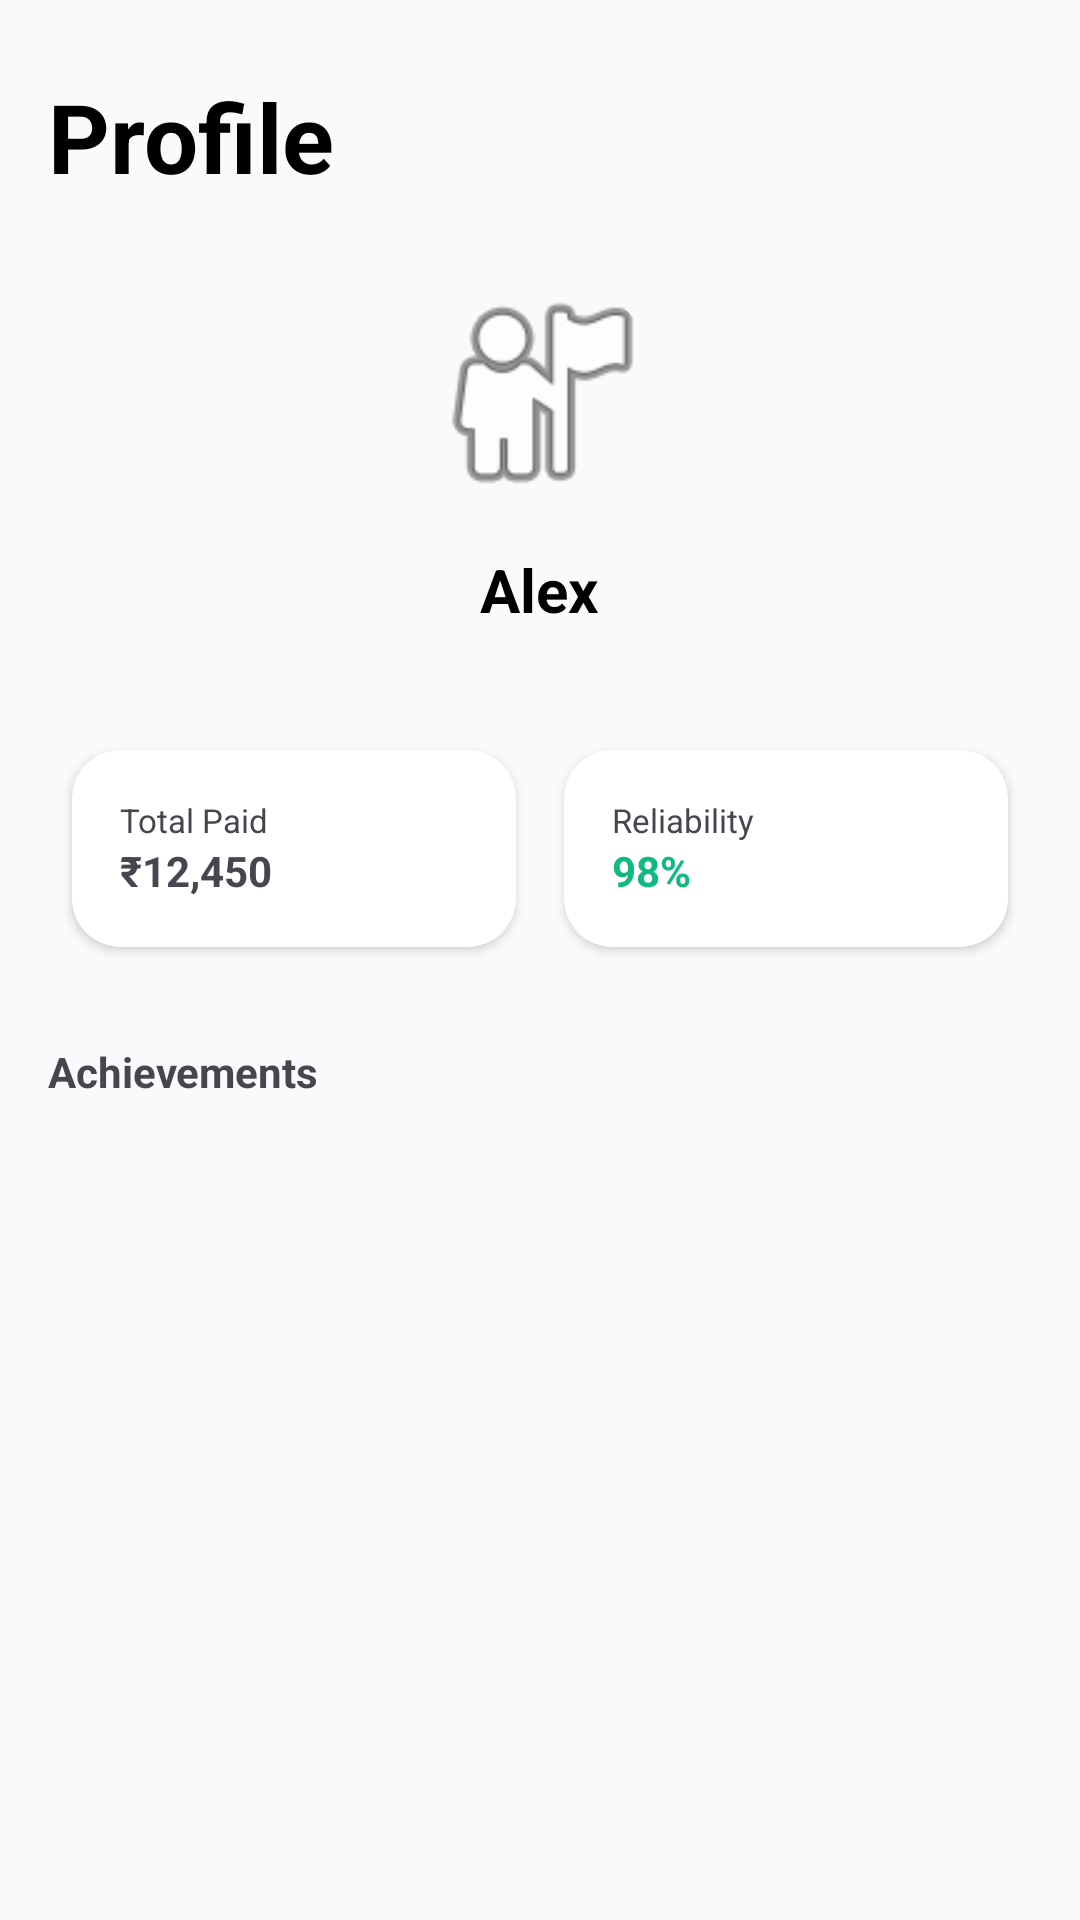

Icons on this 1080px x 1920px Android screen, each with its box as (x1, y1, x2, y2):
myplaces: (452, 303, 633, 483)
